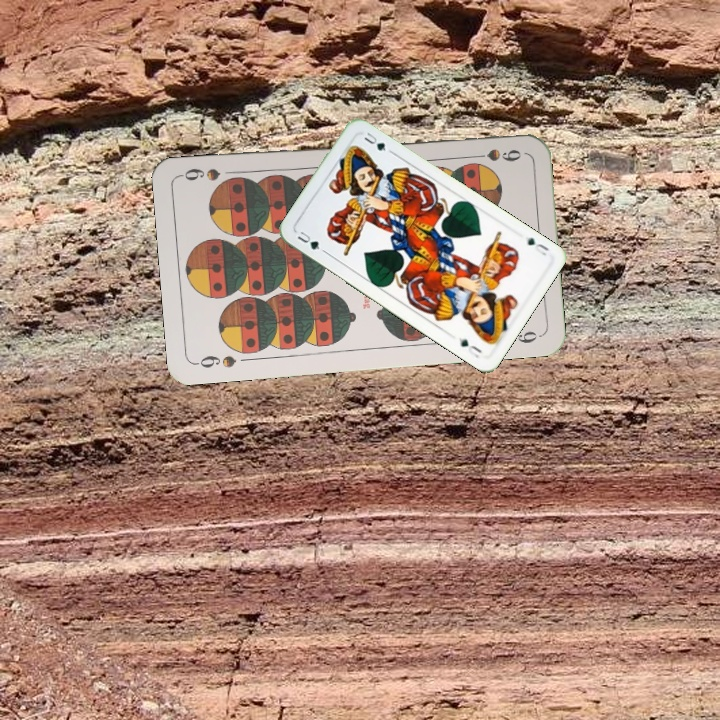GU: (293, 227, 328, 255), (523, 233, 552, 258)
S9: (466, 145, 524, 164), (191, 351, 239, 371)
